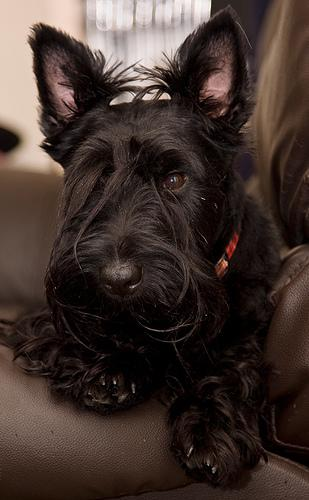dog-scottish_terrier: (31, 5, 252, 327)
